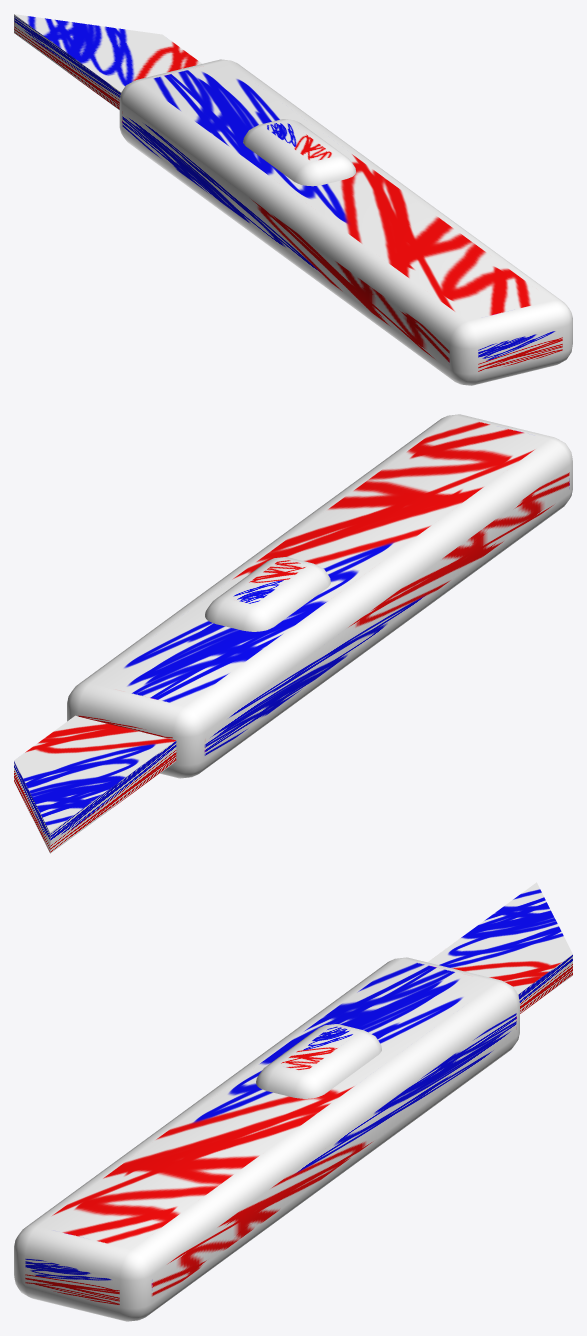
The model's file is stationery_05.glb.
3 renders of one model, top to bottom at view 1: azimuth 30°, elevation 25°; view 2: azimuth 150°, elevation 25°; view 3: azimuth 330°, elevation 25°, orthographic. The views are drawn at different scales.
Parts seen in each view (by area): view 1: obj1; view 2: obj1; view 3: obj1.
Part boxes in pixels (<box>): obj1: <box>14,14,572,385</box>; obj1: <box>14,414,572,853</box>; obj1: <box>14,882,572,1321</box>.
Bounding box in the file's own units: 2 × 1.25 × 13.24.
Materials: 1 (1 with a texture image).
